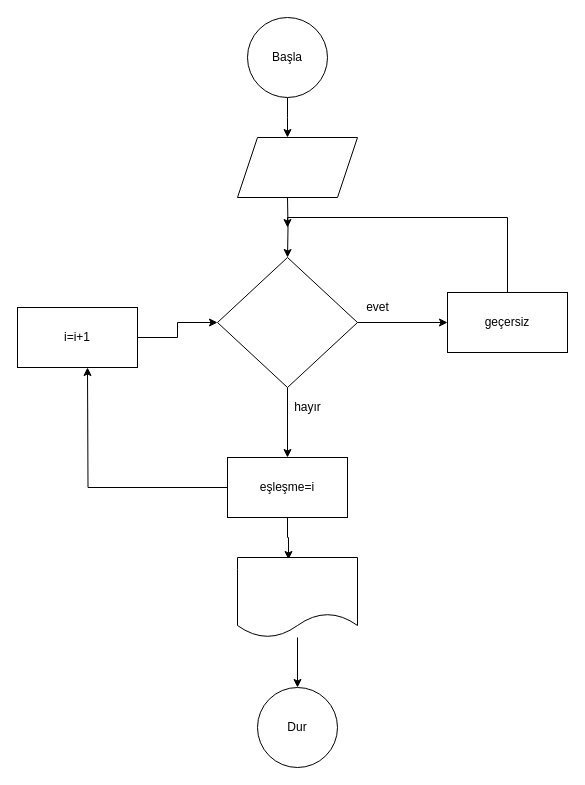
The diagram is 585 pixels wide and 785 high, and some of its shapes have lost their labels. Here are the shapes that lost their labels. From the top down, the centre of each, then its label:
[297,167]: Okul sayısı, öğrenci sayısı
[287,322]: öğrenci1=xokul öğrenci2=xokul
[297,597]: i=sonuç
